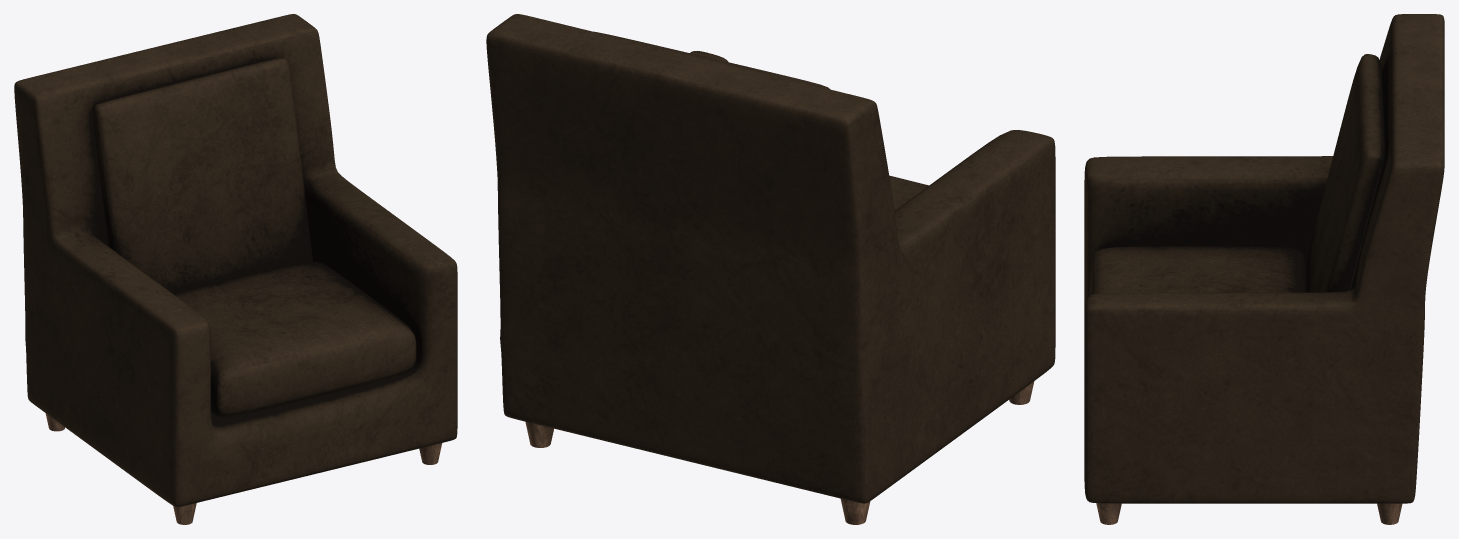
The picture shows the model from 3 angles, left to right: view 1: azimuth 30°, elevation 25°; view 2: azimuth 150°, elevation 25°; view 3: azimuth 270°, elevation 25°; orthographic projection. The views are drawn at different scales.
Parts seen in each view (by area): view 1: Chair, Legs; view 2: Chair, Legs; view 3: Chair, Legs.
Part boxes in pixels (x1=…): Chair: x1=14, y1=14, x2=457, y2=506; Legs: x1=45, y1=413, x2=442, y2=524; Chair: x1=486, y1=14, x2=1055, y2=503; Legs: x1=525, y1=381, x2=1034, y2=524; Chair: x1=1084, y1=14, x2=1444, y2=503; Legs: x1=1096, y1=503, x2=1402, y2=524.
Bounding box in the file's own units: 2 × 2.24 × 1.99.
Materials: 2 (2 with a texture image).
